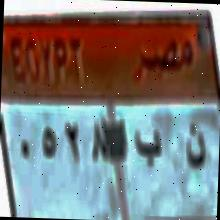0: (15, 126, 32, 166)
2: (62, 115, 82, 166)
5: (36, 120, 59, 166)
8: (88, 120, 108, 166)
baa: (130, 123, 163, 170)
noon: (183, 114, 207, 176)
